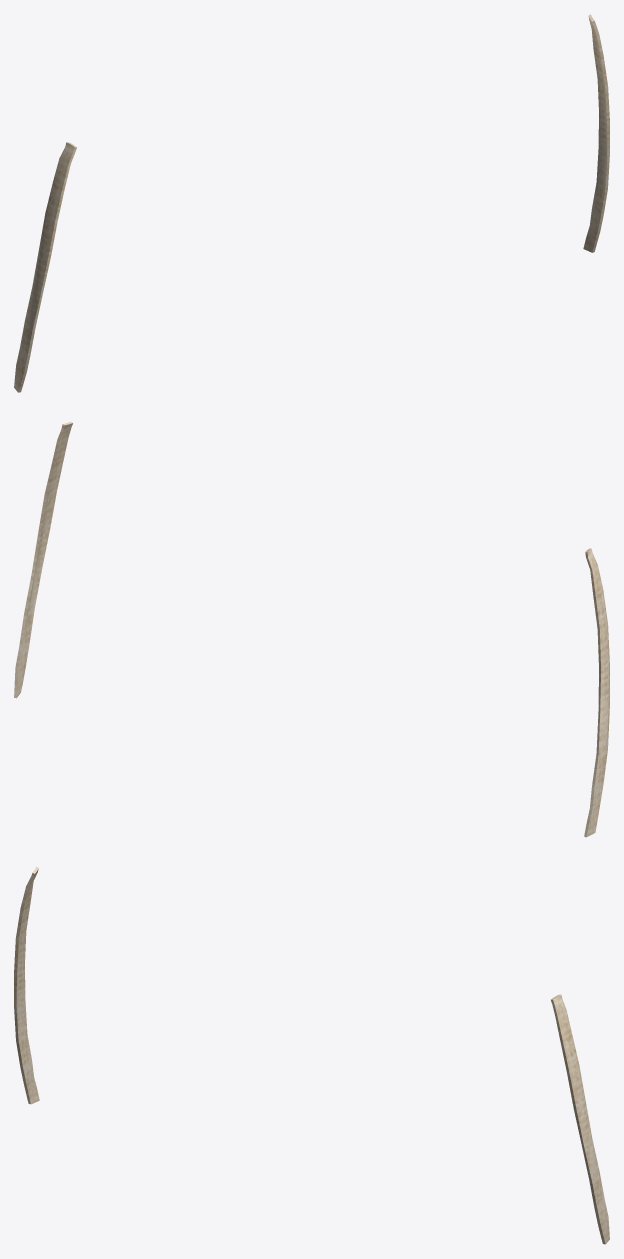
Rendered from pocket_standard.glb.
3 views of the same model, one above another, from view 1: azimuth 30°, elevation 25°; view 2: azimuth 150°, elevation 25°; view 3: azimuth 330°, elevation 25° (orthographic).
Visible parts, largest first — view 1: pocket_standard1; view 2: pocket_standard1; view 3: pocket_standard1.
Boxes of the visible parts, <box> form: pocket_standard1: <box>14,14,609,392</box>; pocket_standard1: <box>14,421,609,837</box>; pocket_standard1: <box>14,866,609,1244</box>.
Bounding box in the file's own units: 0.05 × 0.0214 × 0.00496.
Materials: 1 (1 with a texture image).
